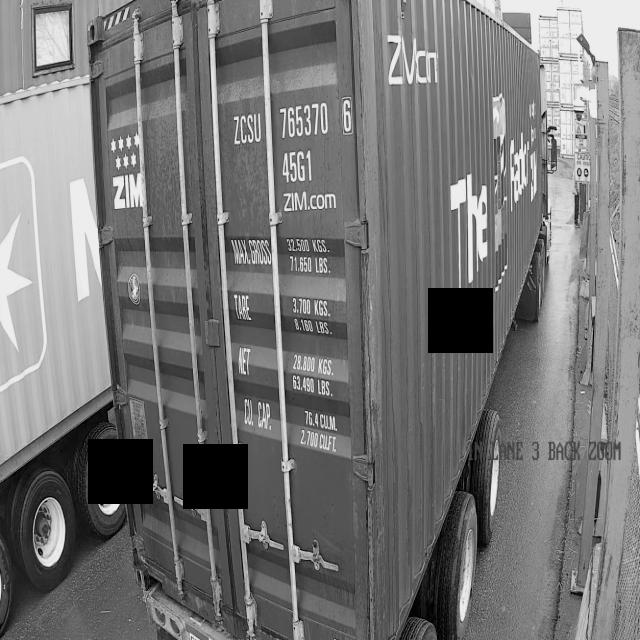container_company_logo: (377, 26, 456, 108), (107, 150, 155, 221)
container_number: (224, 81, 351, 239)
other_container_info: (229, 241, 352, 458)
truck_with_container: (88, 0, 556, 640)
